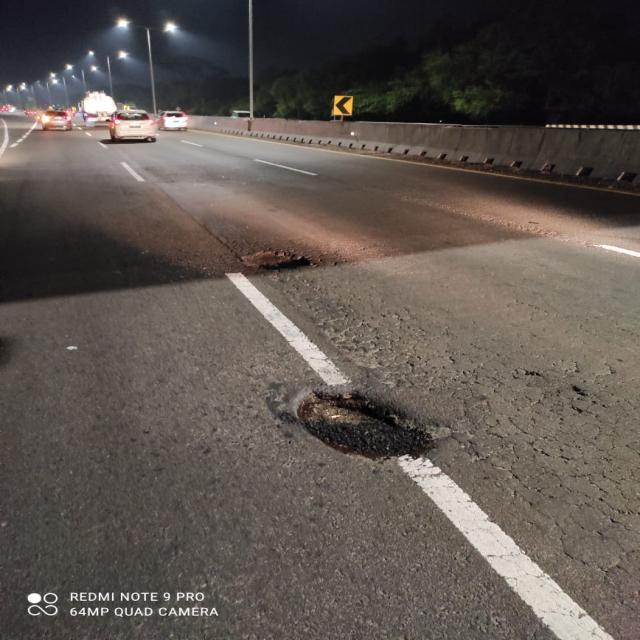Buraco: (269, 380, 460, 470), (233, 246, 321, 275)
